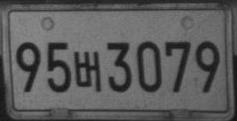0: (136, 40, 162, 92)
3: (106, 41, 132, 93)
5: (46, 41, 72, 92)
7: (165, 41, 191, 92)
9: (194, 40, 220, 93), (15, 41, 41, 92)
버: (74, 51, 101, 92)
